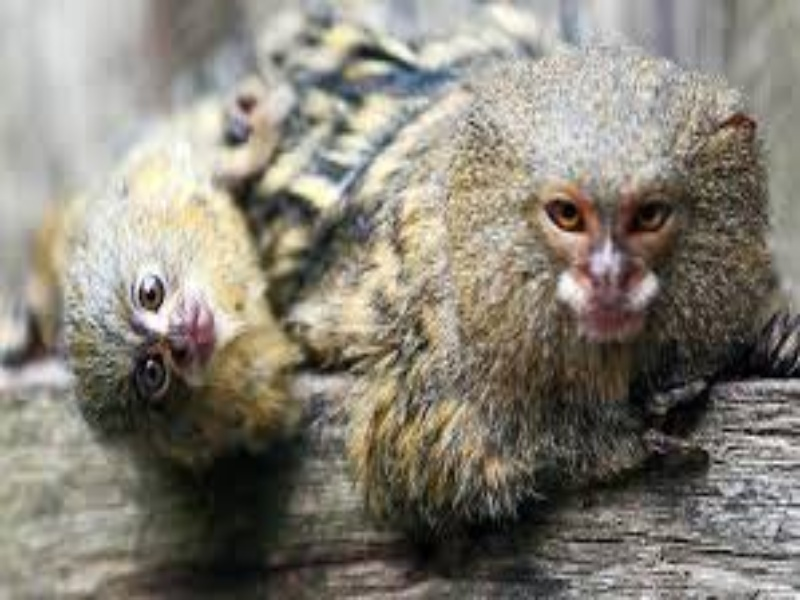monkey: (52, 54, 783, 544)
